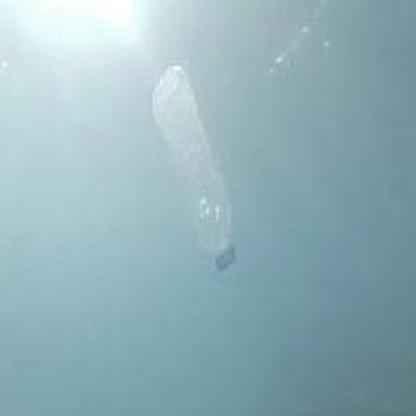plastic bottle: (150, 66, 239, 271)
